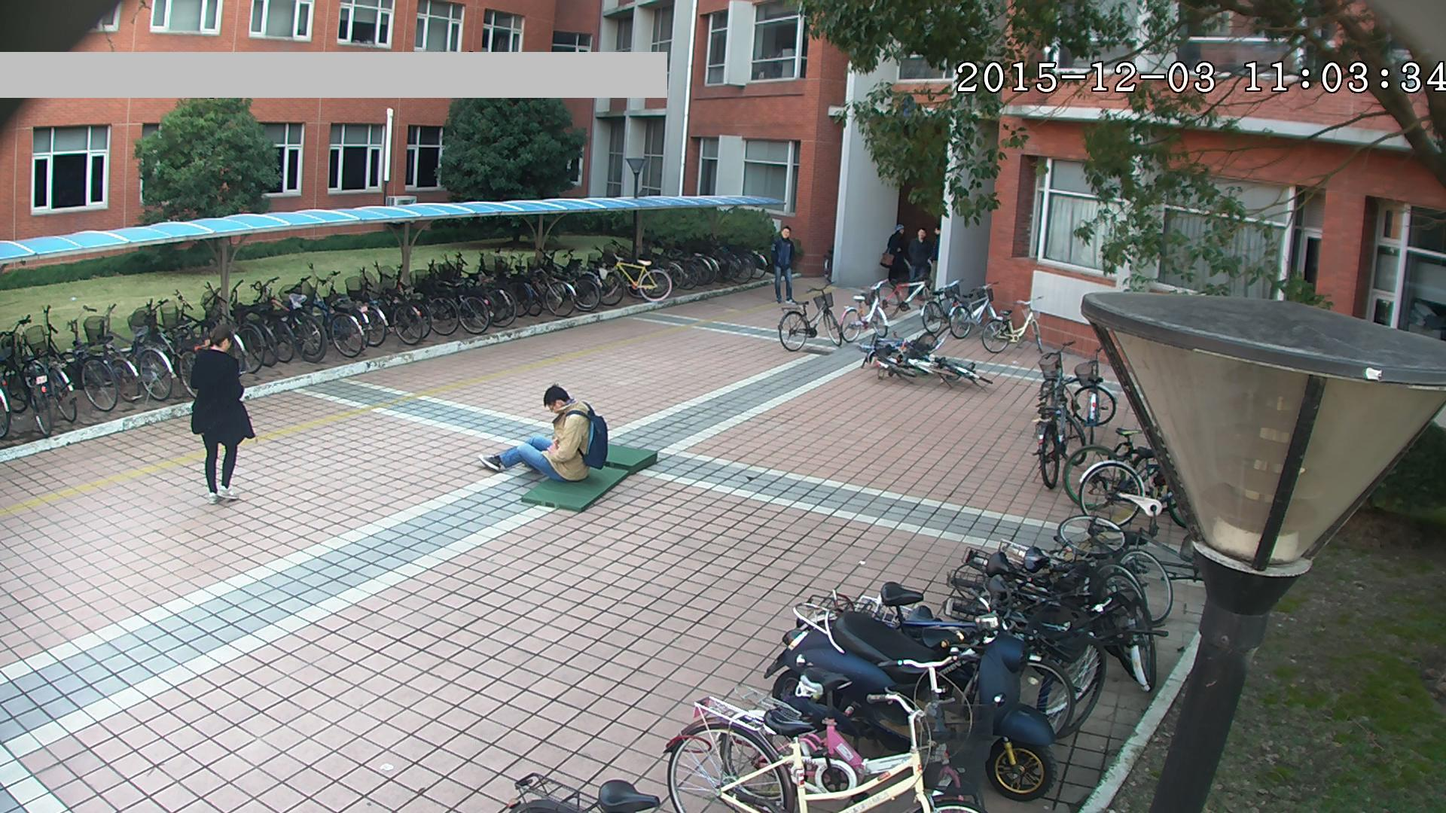person: (186, 312, 259, 519), (485, 376, 607, 488), (761, 219, 803, 307)
